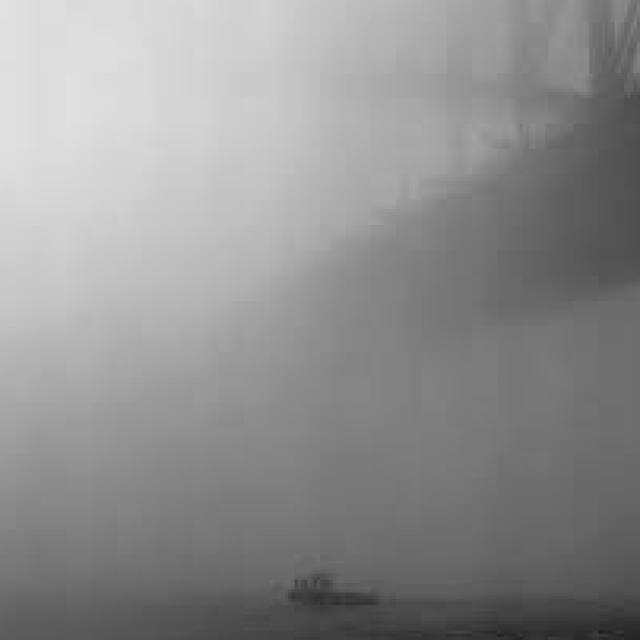fishing boat: (286, 558, 411, 608)
